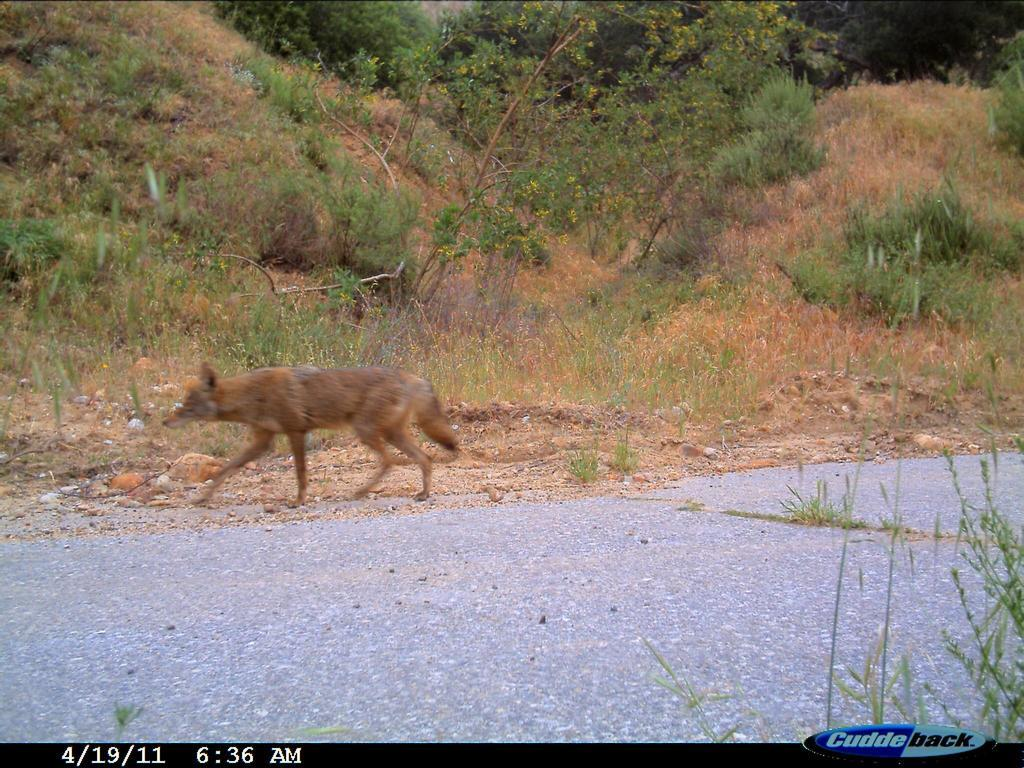coyote: (164, 355, 464, 513)
